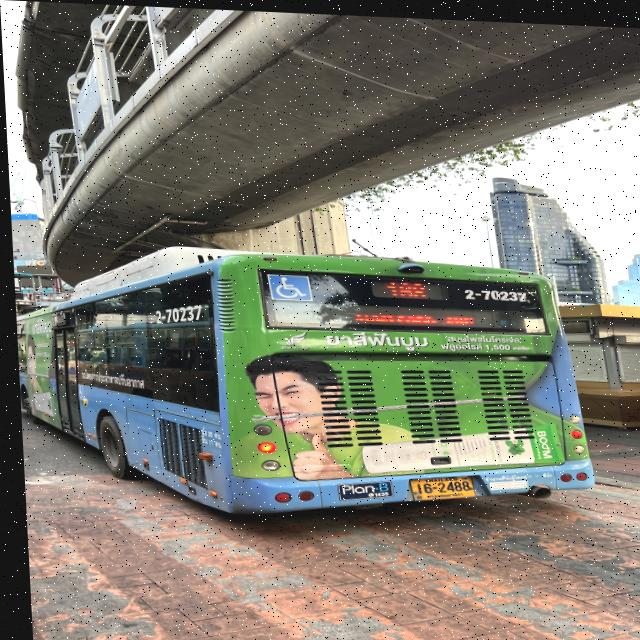BMTA-bus: (9, 232, 604, 535)
Bus Line Number: (365, 276, 446, 298)
Bus Side Number: (458, 281, 531, 301)
